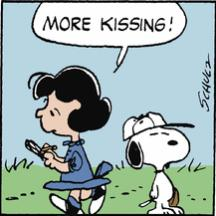snoopy: (123, 110, 191, 216)
